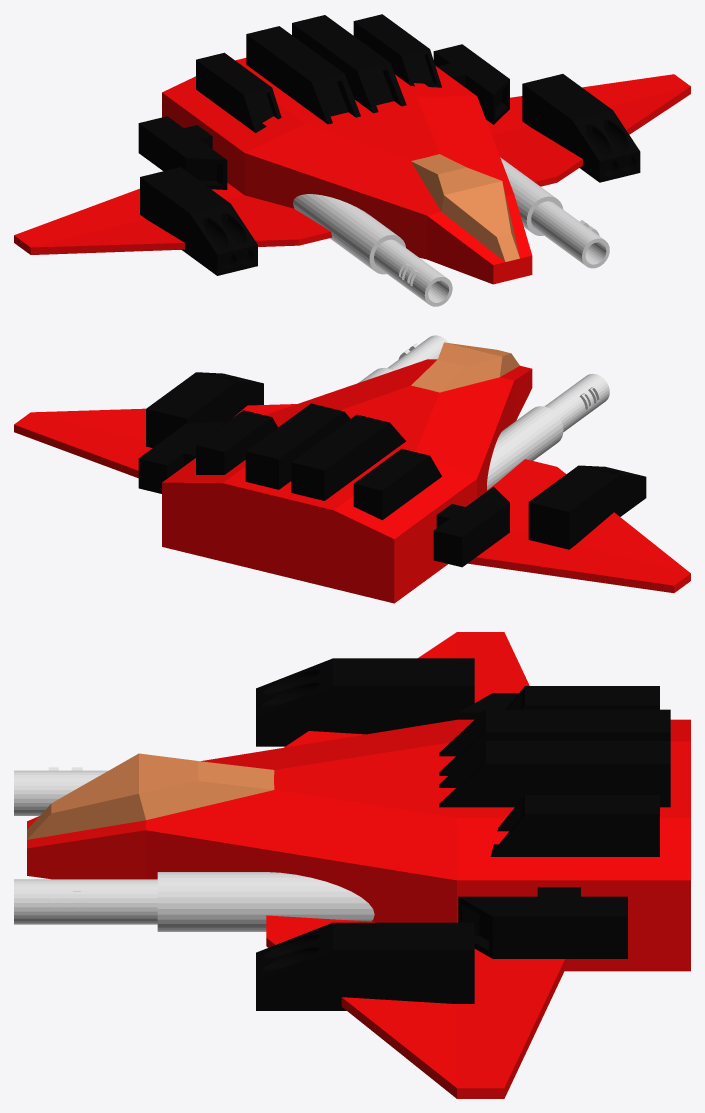
File: boss1.fbx
The picture shows the model from 3 angles, top to bottom: view 1: azimuth 30°, elevation 25°; view 2: azimuth 150°, elevation 25°; view 3: azimuth 270°, elevation 25°; orthographic projection. The views are drawn at different scales.
Parts seen in each view (by area): view 1: Cube.002; view 2: Cube.002; view 3: Cube.002.
Part boxes in pixels (x1=…): Cube.002: x1=14, y1=14, x2=690, y2=306; Cube.002: x1=14, y1=335, x2=690, y2=603; Cube.002: x1=14, y1=632, x2=690, y2=1098.
Size of the model in its own units: 36149 by 5705 by 22672.
